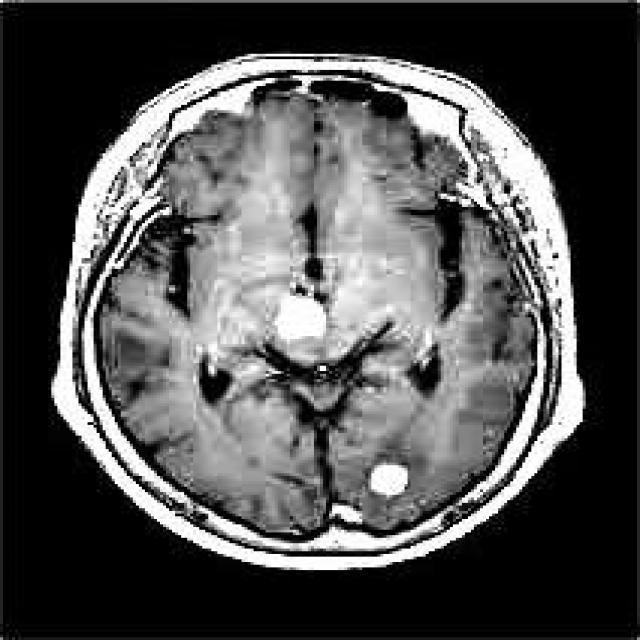notumor: (51, 54, 580, 565)
